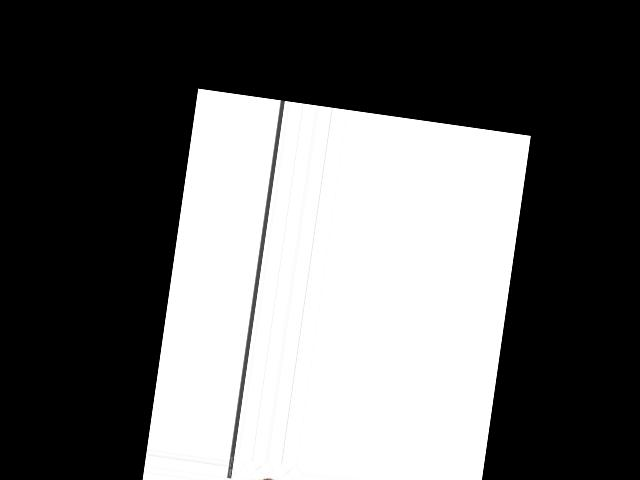beet: (224, 472, 292, 480)
